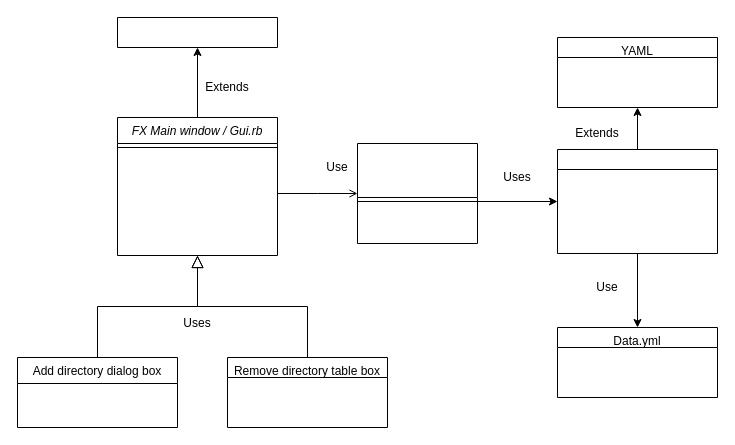
Image size: 735x445. Some labels were removed from this diagram. The box of each missing label's shape, as (x1, y1, x2, y2) in pixels:
FileObserver / Class Sync.rb: (556, 148, 718, 254)
FXRuby: (116, 16, 278, 48)
Start.rb: (356, 142, 478, 244)
